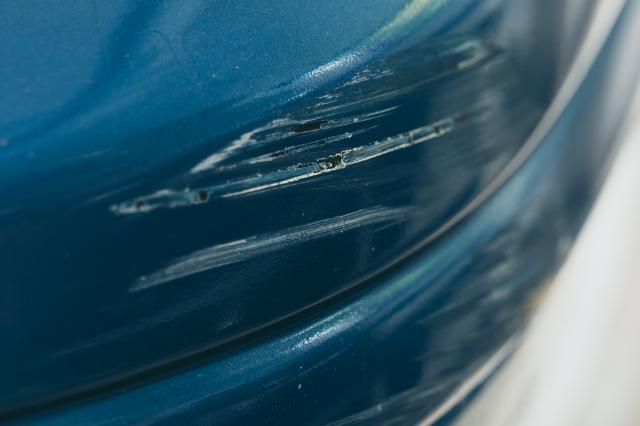Bumper: (383, 225, 548, 411)
Dickey: (73, 18, 488, 288)
